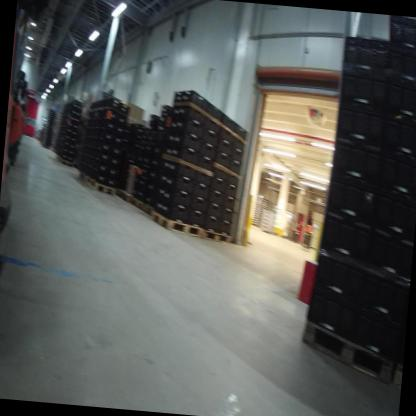pallet: (297, 316, 399, 387), (147, 209, 207, 241), (84, 171, 118, 194), (203, 230, 232, 244), (128, 195, 146, 213), (115, 187, 133, 205), (54, 154, 75, 169), (394, 361, 403, 386)
